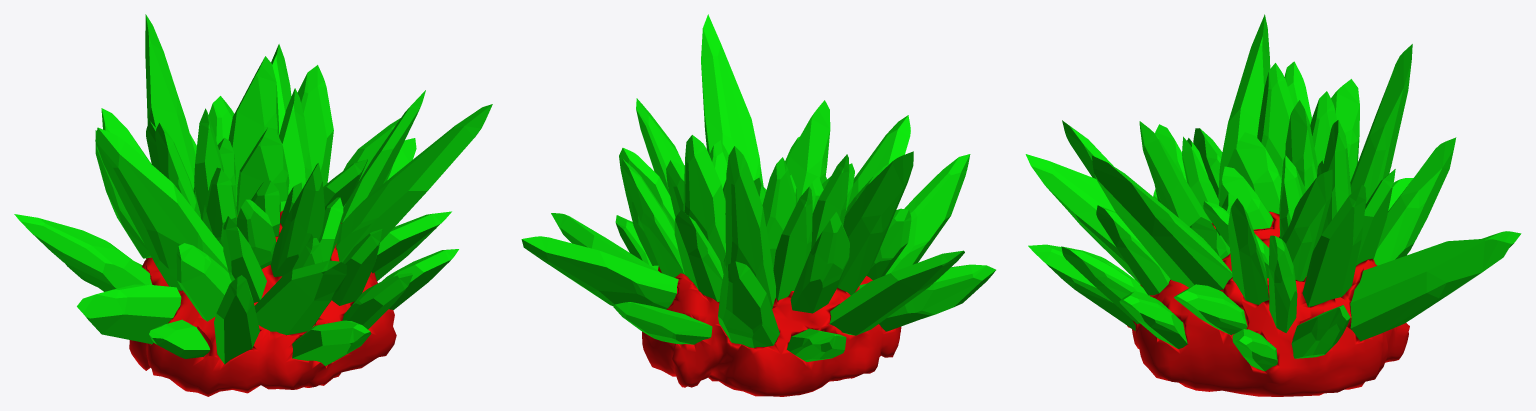
Rendered from basilite_lod1.fbx.
3 renders of one model, left to right at view 1: azimuth 30°, elevation 25°; view 2: azimuth 150°, elevation 25°; view 3: azimuth 270°, elevation 25°, orthographic. The views are drawn at different scales.
Visible parts, largest first — view 1: cryst_low, base_low; view 2: cryst_low, base_low; view 3: cryst_low, base_low.
Boxes of the visible parts, left/top/right/bottom form: cryst_low: left=14, top=14, right=492, bottom=365; base_low: left=129, top=210, right=396, bottom=396; cryst_low: left=521, top=14, right=995, bottom=361; base_low: left=642, top=266, right=901, bottom=396; cryst_low: left=1025, top=14, right=1521, bottom=371; base_low: left=1127, top=211, right=1409, bottom=396.
Size of the model in its own units: 3.55 by 2.27 by 3.56.
